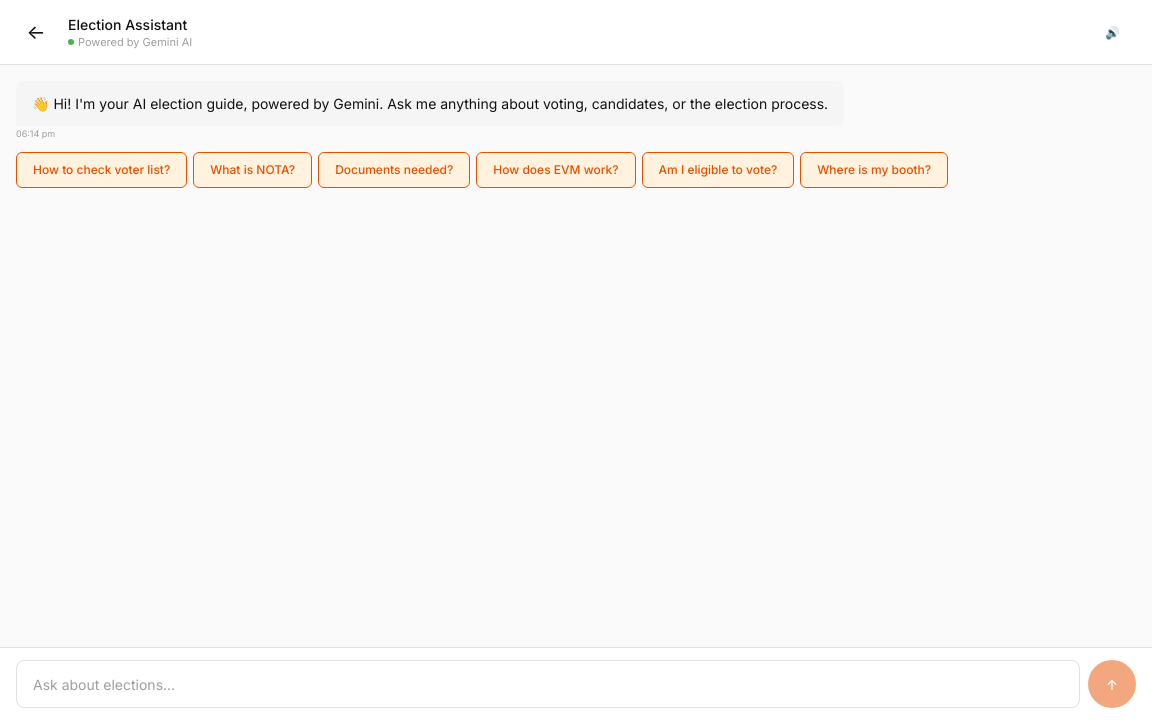
AI Chat Integration › should send and receive messages in the chat interface
Step 1. Type "How to vote?" into the field with placeholder "Ask about elections..." → (548, 684), box top-left (16, 660), bottom-right (1080, 708)
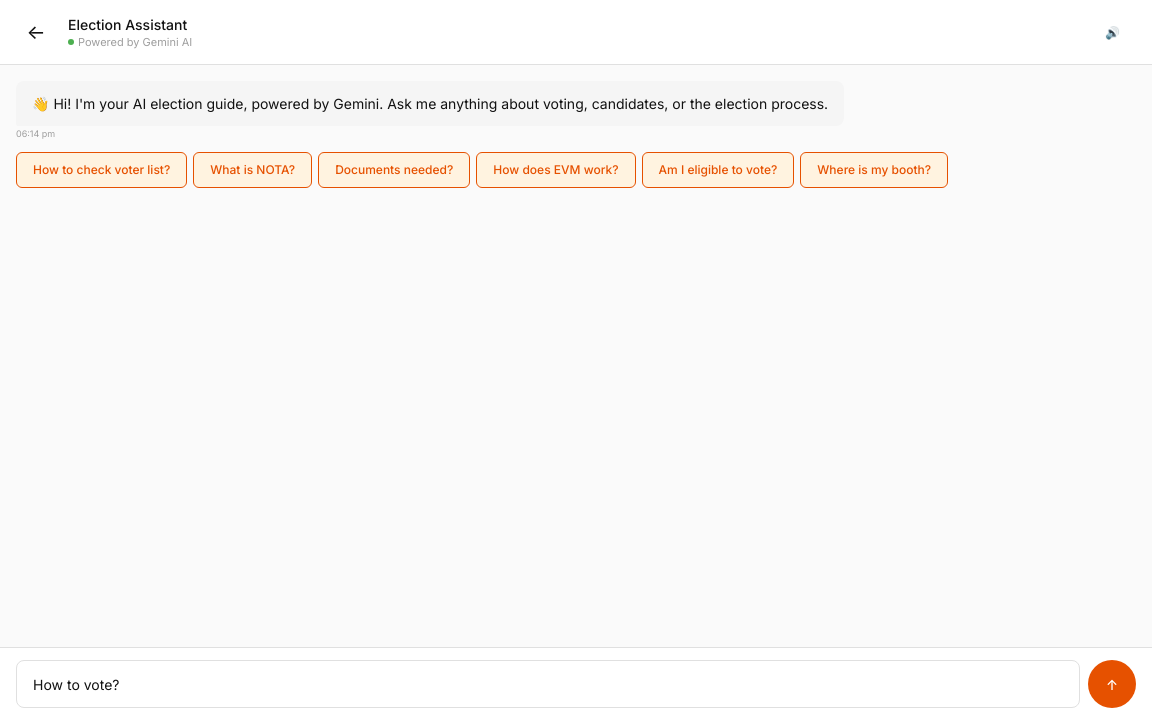
Step 2. Press Enter in the field with placeholder "Ask about elections...", box top-left (16, 660), bottom-right (1080, 708)
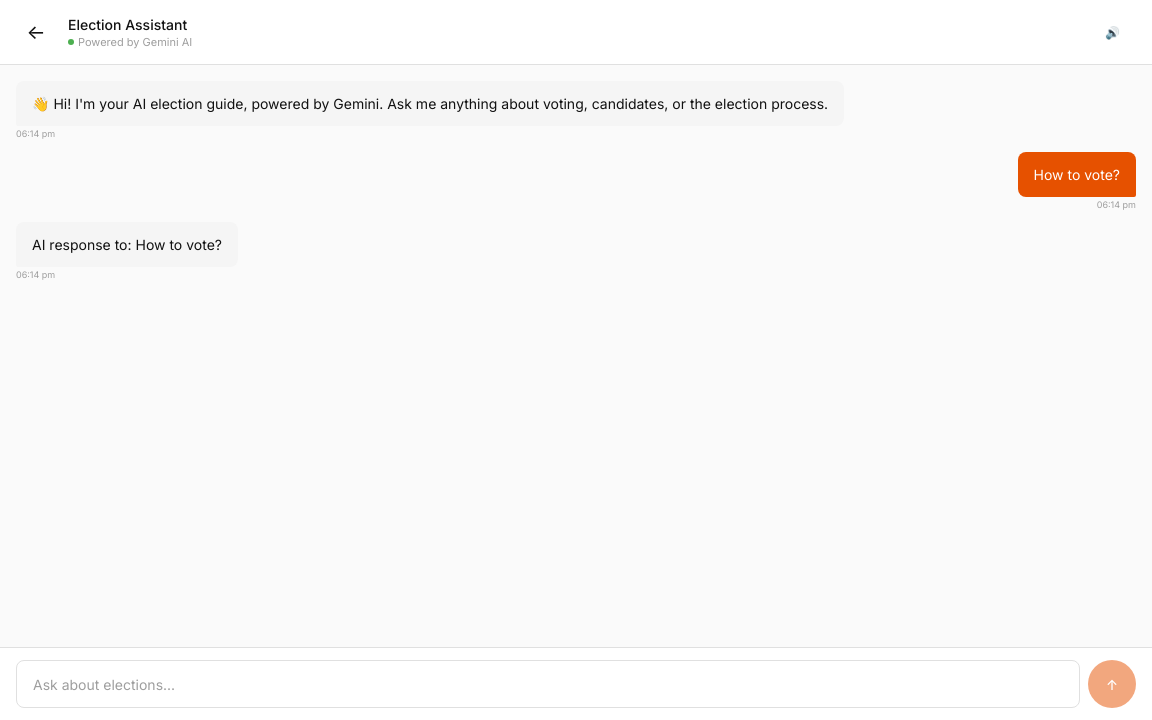
Expected: the text "How to vote?" is shown, top-left (1018, 152), bottom-right (1136, 197)
Expected: the text "AI response to: How to vote?" is shown, top-left (16, 222), bottom-right (238, 267)
